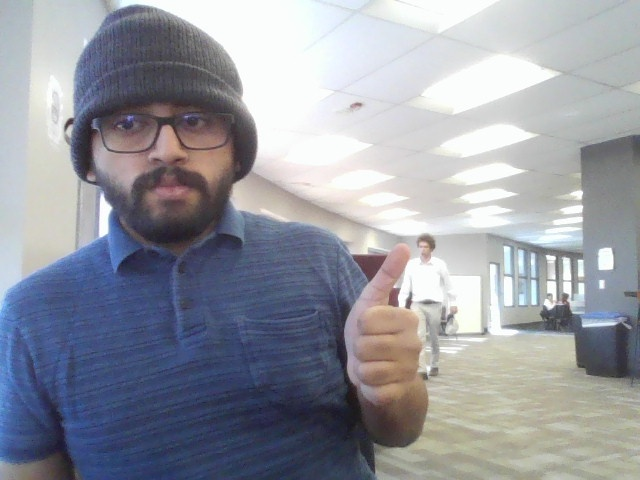start: (331, 229, 446, 434)
